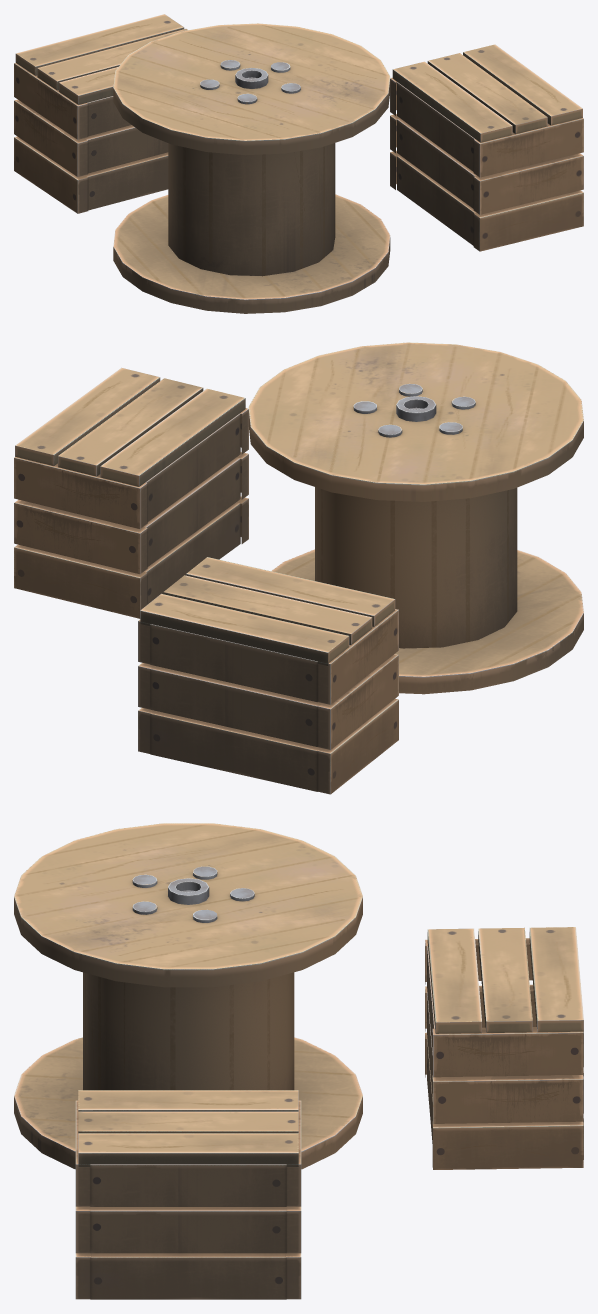
File: table_1.fbx
3 renders of one model, top to bottom at view 1: azimuth 30°, elevation 25°; view 2: azimuth 150°, elevation 25°; view 3: azimuth 270°, elevation 25°, orthographic. The views are drawn at different scales.
Parts seen in each view (by area): view 1: Cylinder.001, Cylinder, Cylinder.002, Cube.004, Cube.053, Cube.051, Cube.048, Cube.055, Cube.054, Cube.065, Cube.063, Cube.049 (+10 smaller); view 2: Cylinder.001, Cylinder, Cylinder.002, Cube.062, Cube.063, Cube.056, Cube.065, Cube.004, Cube.053, Cube.051, Cube.048, Cube.055 (+10 smaller); view 3: Cylinder.001, Cylinder, Cylinder.002, Cube.049, Cube.052, Cube.050, Cube.067, Cube.068, Cube.057, Cube.055, Cube.054, Cube.065 (+7 smaller).
Part boxes in pixels (left/top/right/bottom): Cylinder.001: left=113, top=23, right=390, bottom=155; Cylinder: left=168, top=143, right=335, bottom=276; Cylinder.002: left=113, top=194, right=390, bottom=313; Cube.004: left=390, top=113, right=583, bottom=214; Cube.053: left=390, top=150, right=583, bottom=251; Cube.051: left=390, top=77, right=583, bottom=177; Cube.048: left=392, top=61, right=512, bottom=142; Cube.055: left=463, top=44, right=582, bottom=125; Cube.054: left=427, top=53, right=547, bottom=134; Cube.065: left=15, top=14, right=184, bottom=75; Cube.063: left=85, top=152, right=168, bottom=210; Cube.049: left=397, top=118, right=476, bottom=208; Cylinder.001: left=248, top=342, right=583, bottom=501; Cylinder: left=315, top=487, right=517, bottom=648; Cylinder.002: left=271, top=549, right=583, bottom=694; Cube.062: left=150, top=665, right=321, bottom=746; Cube.063: left=150, top=711, right=320, bottom=791; Cube.056: left=150, top=624, right=317, bottom=702; Cube.065: left=140, top=593, right=349, bottom=665; Cube.004: left=14, top=452, right=248, bottom=574; Cube.053: left=14, top=496, right=248, bottom=618; Cube.051: left=14, top=408, right=248, bottom=528; Cube.048: left=100, top=388, right=245, bottom=486; Cube.055: left=15, top=367, right=160, bottom=465; Cylinder.001: left=14, top=823, right=362, bottom=987; Cylinder: left=83, top=972, right=294, bottom=1090; Cylinder.002: left=14, top=1037, right=362, bottom=1169; Cube.049: left=90, top=1207, right=286, bottom=1253; Cube.052: left=90, top=1253, right=286, bottom=1299; Cube.050: left=90, top=1164, right=286, bottom=1206; Cube.067: left=425, top=984, right=583, bottom=1123; Cube.068: left=425, top=1032, right=583, bottom=1169; Cube.057: left=425, top=938, right=583, bottom=1077; Cube.055: left=78, top=1133, right=298, bottom=1166; Cube.054: left=78, top=1111, right=298, bottom=1133; Cube.065: left=529, top=927, right=583, bottom=1033.
Bounding box in the file's own units: 5.58 × 2.47 × 5.39.
